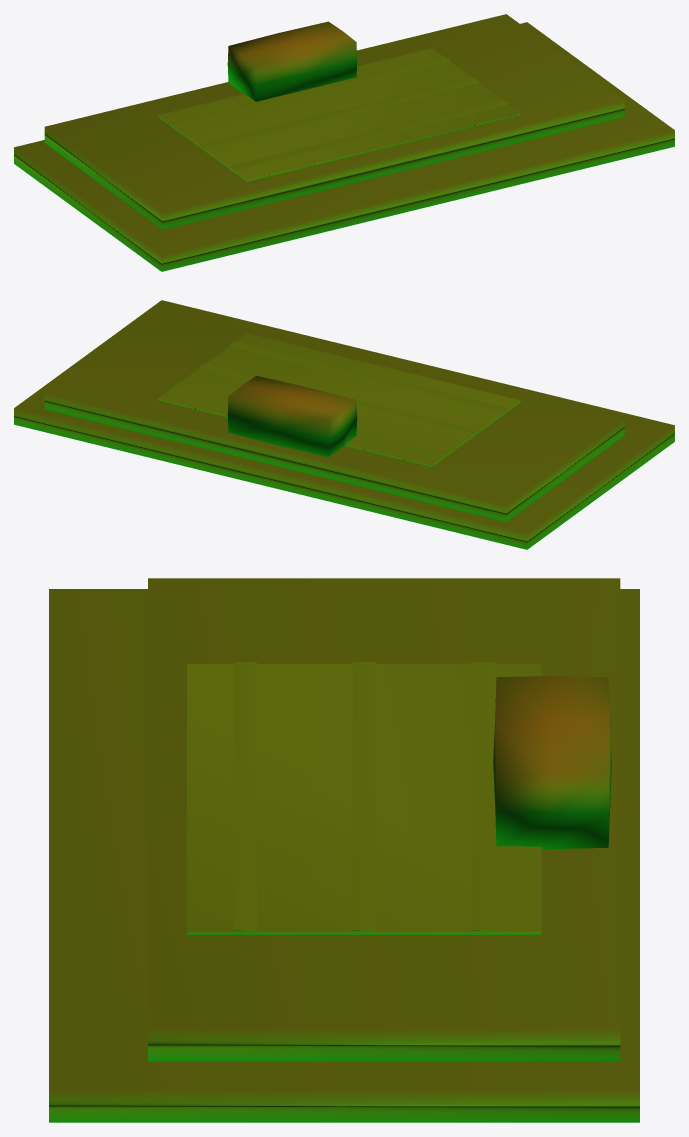
File: hesk_dais.glb
3 views of the same model, one above another, from view 1: azimuth 30°, elevation 25°; view 2: azimuth 150°, elevation 25°; view 3: azimuth 270°, elevation 25° (orthographic). The views are drawn at different scales.
Visible parts, largest first — view 1: hesk_dais; view 2: hesk_dais; view 3: hesk_dais.
Boxes of the visible parts, x1,y1,x2,y2 form: hesk_dais: [14, 14, 674, 271]; hesk_dais: [14, 300, 674, 549]; hesk_dais: [49, 578, 639, 1122].
Size of what is drawn, in the model's own units: 5.98 by 0.8315 by 2.98.
